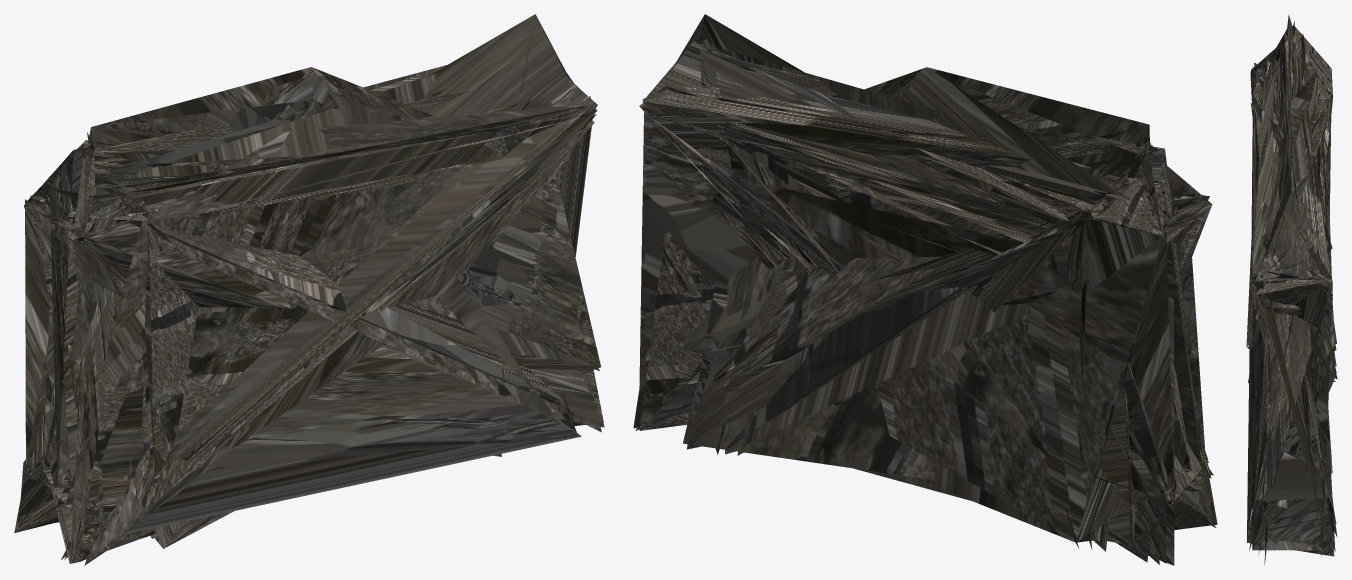
Rendered from m8-boulder-small.glb.
3 views of the same model, side by side, from view 1: azimuth 30°, elevation 25°; view 2: azimuth 150°, elevation 25°; view 3: azimuth 270°, elevation 25° (orthographic). The views are drawn at different scales.
Visible parts, largest first — view 1: geometry_0; view 2: geometry_0; view 3: geometry_0.
Part boxes in pixels (box(x1,y1,x2,y2)): geometry_0: box(14, 14, 604, 565); geometry_0: box(633, 14, 1217, 565); geometry_0: box(1246, 14, 1337, 564).
Bounding box in the file's own units: 1.9 × 1.4 × 0.3265.
1 material, 1 textured.
